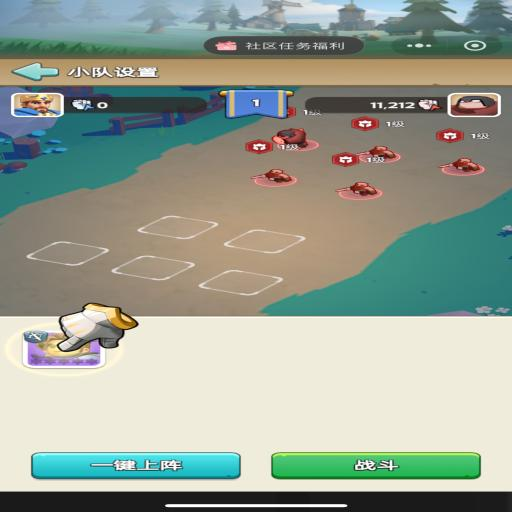newcomer_hand: (57, 304, 138, 350)
